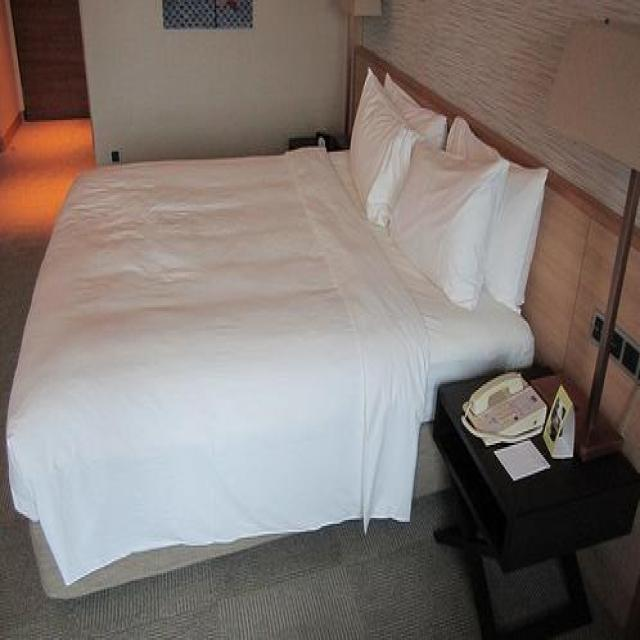bed: (8, 43, 551, 616)
table: (431, 362, 638, 636)
